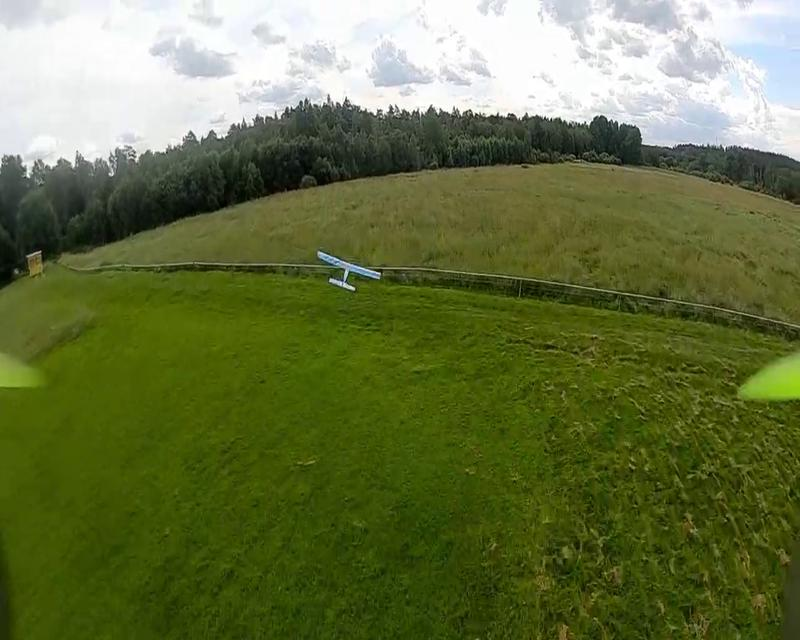UAV: (318, 250, 381, 293)
